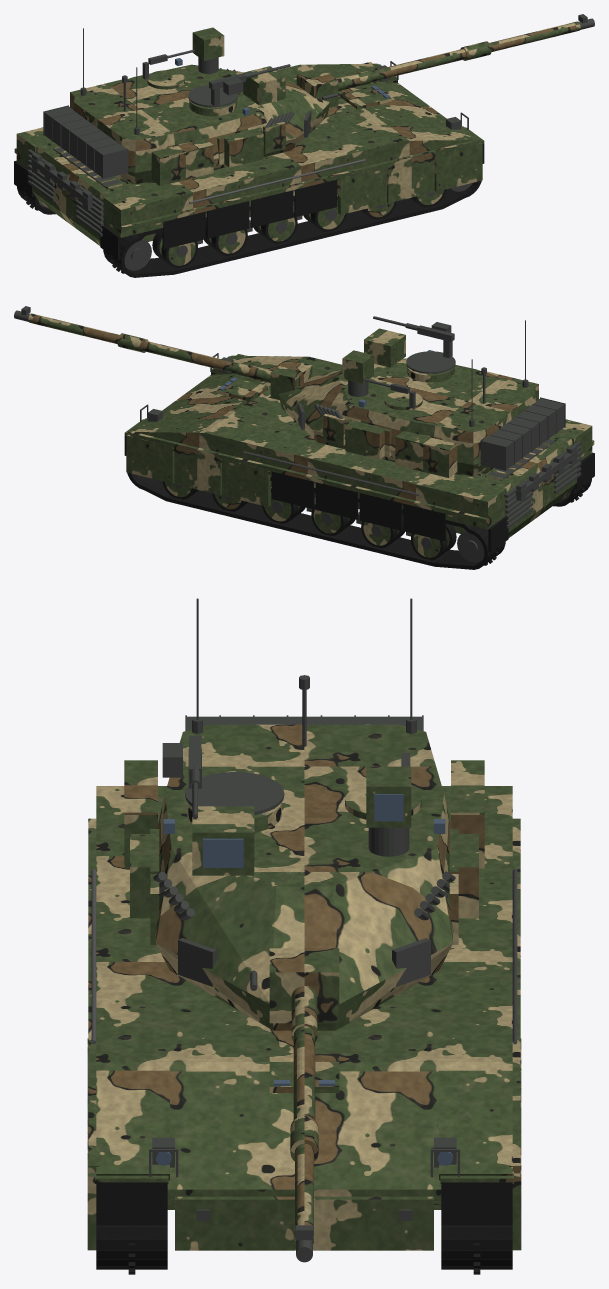
The model's file is k2_black_panther_1024.glb.
3 renders of one model, top to bottom at view 1: azimuth 30°, elevation 25°; view 2: azimuth 150°, elevation 25°; view 3: azimuth 270°, elevation 25°, orthographic. The views are drawn at different scales.
Parts seen in each view (by area): view 1: Hull_camo, Turret_camo, Hull_rubber, Turret_dark, Hull_dark, Gun_camo, Hull_metal; view 2: Hull_camo, Turret_camo, Hull_rubber, Turret_dark, Hull_dark, Gun_camo, Hull_metal; view 3: Hull_camo, Turret_camo, Turret_dark, Hull_rubber, Gun_camo, Turret_glass, Hull_metal, Hull_dark.
Boxes of the visible parts, x1=… form: Hull_camo: x1=14, y1=62, x2=484, y2=265; Turret_camo: x1=70, y1=27, x2=330, y2=185; Hull_rubber: x1=14, y1=80, x2=484, y2=277; Turret_dark: x1=43, y1=28, x2=311, y2=178; Hull_dark: x1=27, y1=61, x2=472, y2=270; Gun_camo: x1=296, y1=21, x2=580, y2=107; Hull_metal: x1=189, y1=159, x2=365, y2=203; Hull_camo: x1=124, y1=354, x2=594, y2=557; Turret_camo: x1=278, y1=328, x2=538, y2=477; Hull_rubber: x1=124, y1=372, x2=594, y2=569; Turret_dark: x1=297, y1=316, x2=565, y2=470; Hull_dark: x1=136, y1=353, x2=581, y2=562; Gun_camo: x1=28, y1=313, x2=312, y2=399; Hull_metal: x1=243, y1=451, x2=419, y2=495; Hull_camo: x1=87, y1=786, x2=521, y2=1250; Turret_camo: x1=124, y1=724, x2=484, y2=1030; Turret_dark: x1=149, y1=598, x2=459, y2=986; Hull_rubber: x1=96, y1=1182, x2=512, y2=1274; Gun_camo: x1=269, y1=948, x2=339, y2=1243; Turret_glass: x1=163, y1=794, x2=445, y2=867; Hull_metal: x1=91, y1=869, x2=517, y2=1044; Hull_dark: x1=149, y1=1137, x2=459, y2=1220.
Bounding box in the file's own units: 10.94 × 3.8 × 3.85.
5 materials, 3 textured.
